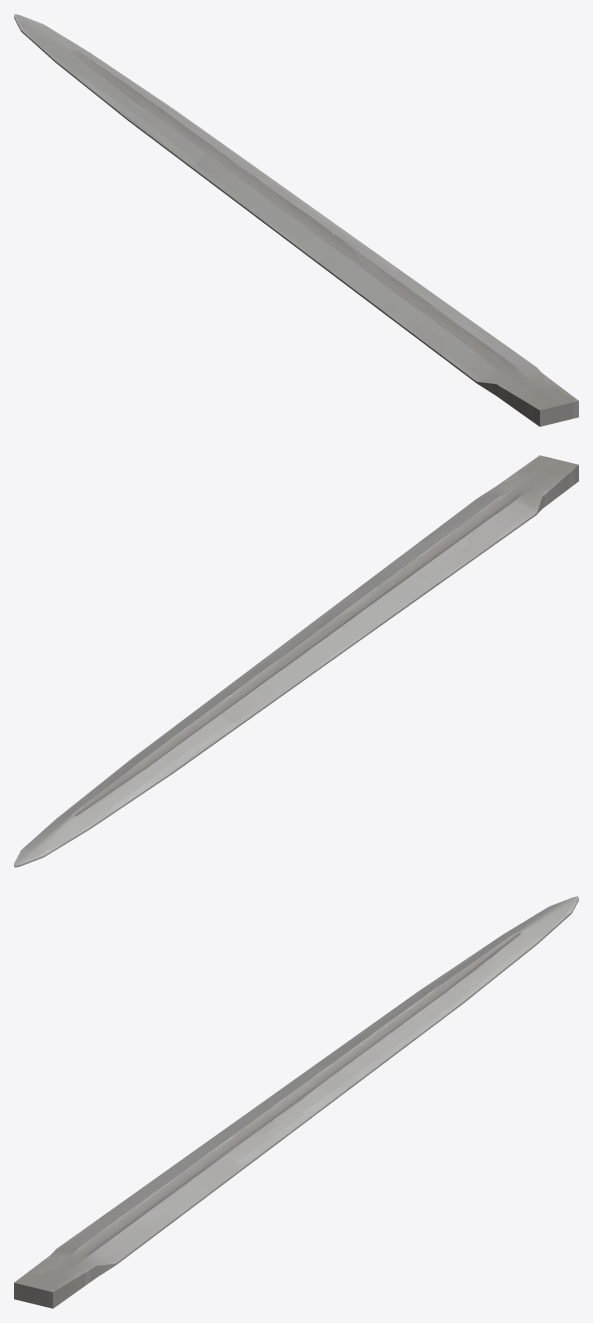
File: blade3.FBX
3 renders of one model, top to bottom at view 1: azimuth 30°, elevation 25°; view 2: azimuth 150°, elevation 25°; view 3: azimuth 330°, elevation 25°, orthographic.
Visible parts, largest first — view 1: blade003; view 2: blade003; view 3: blade003.
Boxes of the visible parts, box(x1,y1,x2,y2) form: blade003: box(14, 14, 578, 426); blade003: box(14, 455, 578, 867); blade003: box(14, 896, 578, 1308).
Size of the model in its own units: 0.154 by 2.43 by 0.0406.
